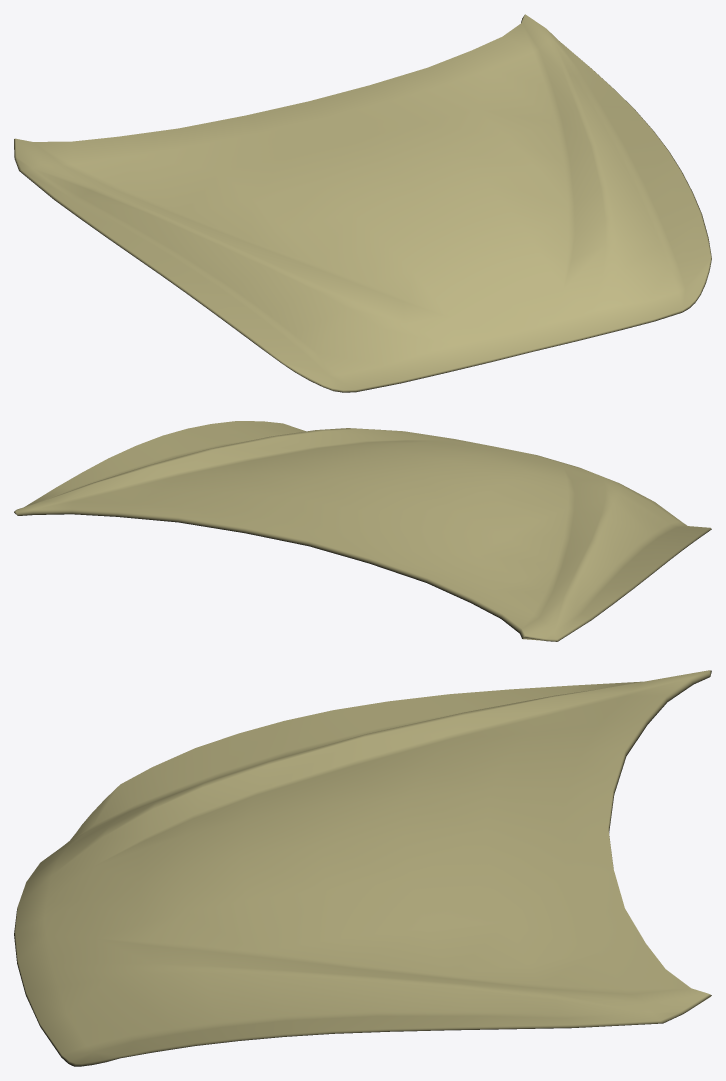
Rendered from G37_Hood_07_Duco.fbx.
3 views of the same model, one above another, from view 1: azimuth 30°, elevation 25°; view 2: azimuth 150°, elevation 25°; view 3: azimuth 270°, elevation 25° (orthographic). The views are drawn at different scales.
Visible parts, largest first — view 1: G37_Hood_07_Duco; view 2: G37_Hood_07_Duco; view 3: G37_Hood_07_Duco.
Boxes of the visible parts, x1=… form: G37_Hood_07_Duco: x1=14, y1=14, x2=711, y2=392; G37_Hood_07_Duco: x1=14, y1=421, x2=711, y2=641; G37_Hood_07_Duco: x1=14, y1=670, x2=711, y2=1066.
Size of the model in its own units: 150 by 26.09 by 130.
